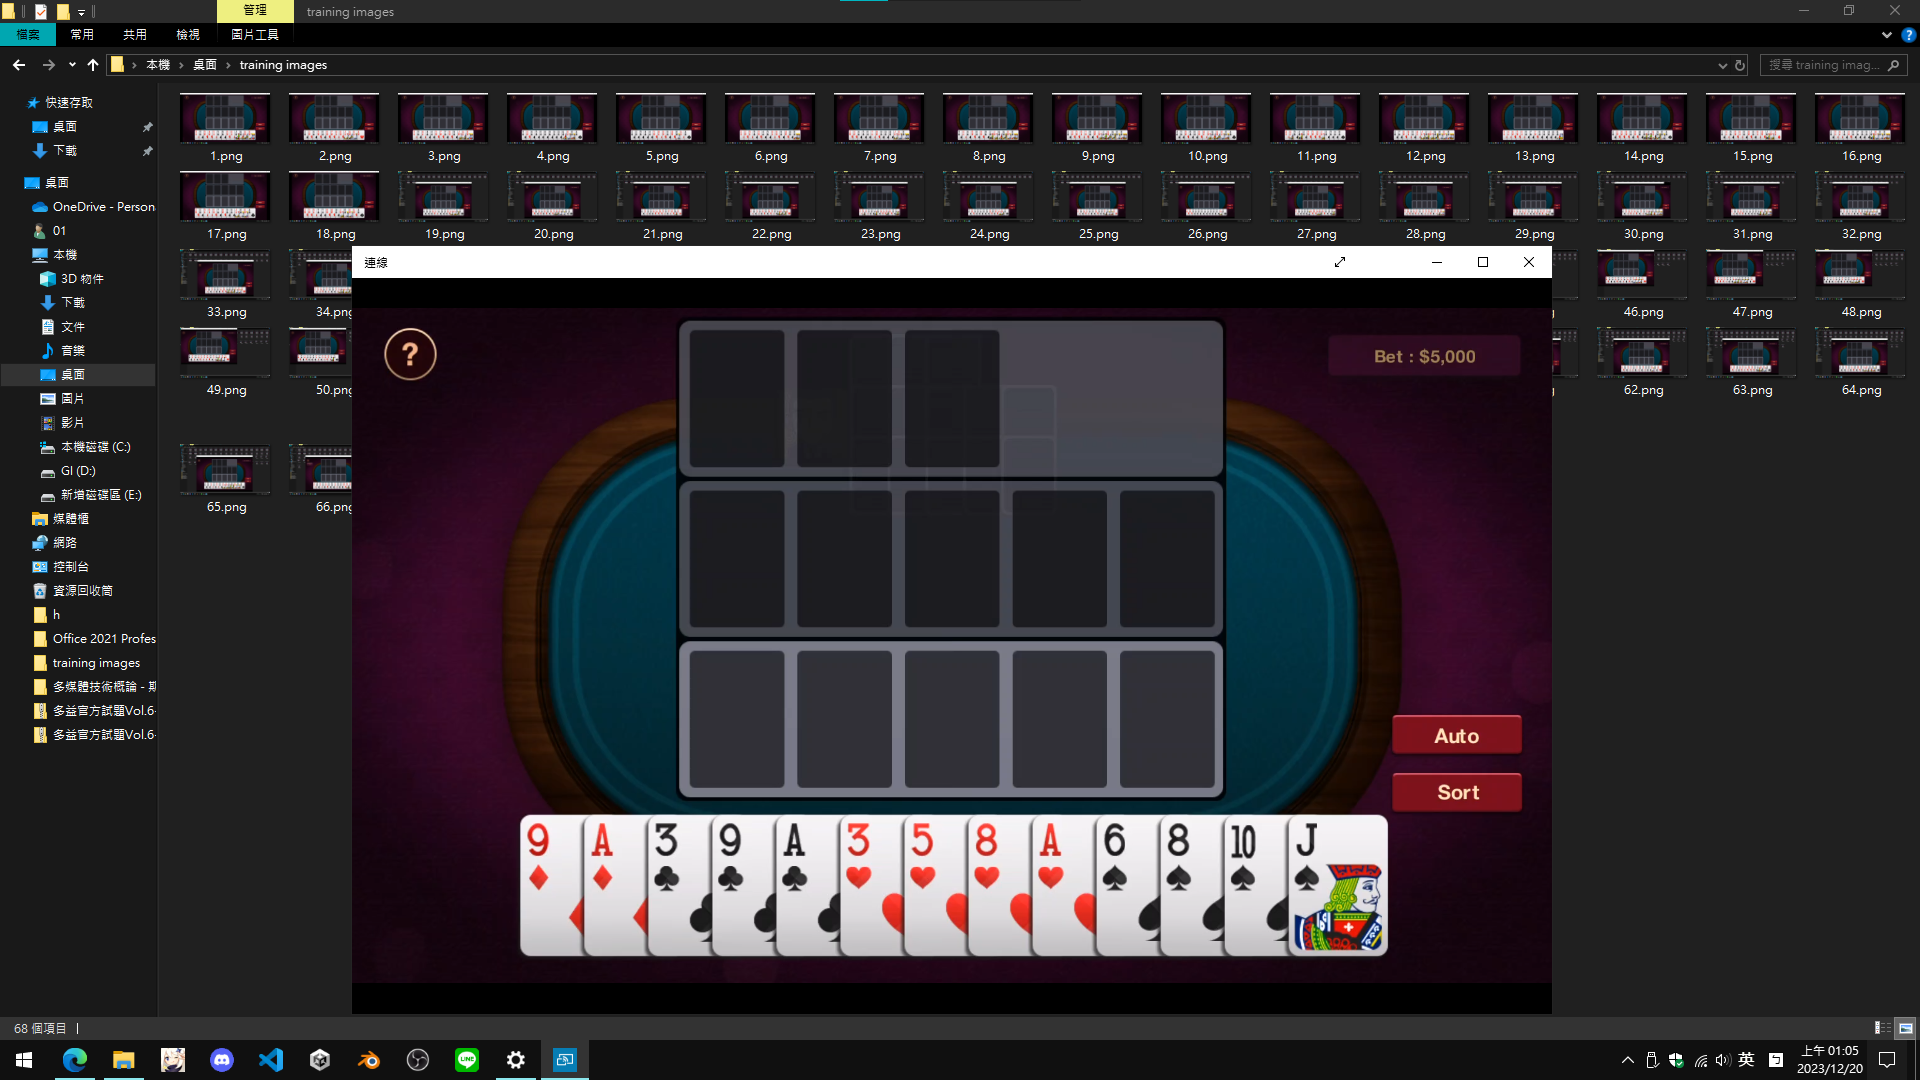10S: (1228, 818, 1257, 893)
3C: (650, 818, 683, 897)
3H: (844, 818, 874, 889)
5H: (910, 819, 938, 890)
6S: (1100, 819, 1131, 897)
8H: (972, 820, 1002, 893)
8S: (1166, 820, 1193, 893)
9C: (716, 818, 746, 897)
9D: (524, 819, 554, 894)
AC: (778, 819, 811, 894)
AD: (589, 818, 616, 891)
AH: (1036, 818, 1067, 893)
JS: (1294, 820, 1321, 895)
